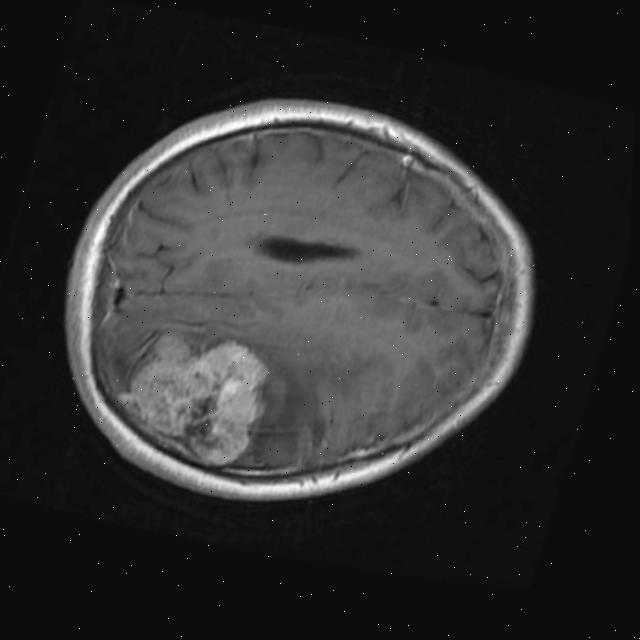Meningioma: (99, 310, 287, 484)
